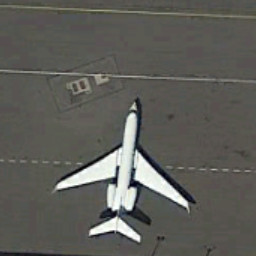Airplane: (50, 88, 200, 248)
